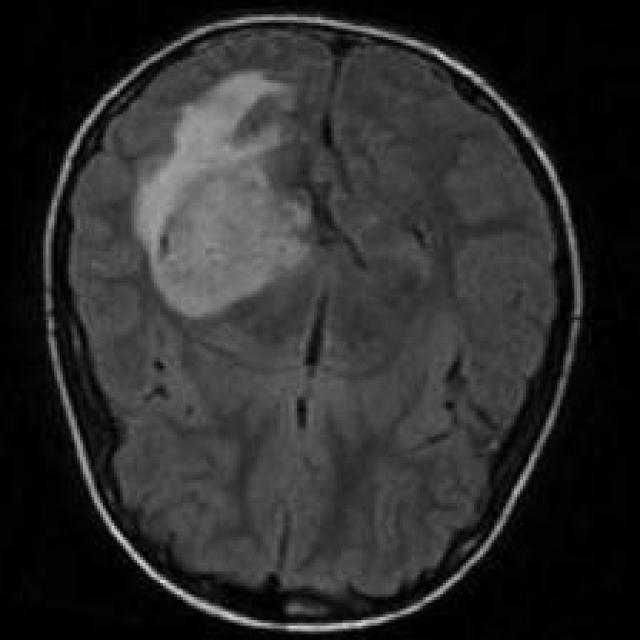Tumor: (134, 71, 317, 319)
